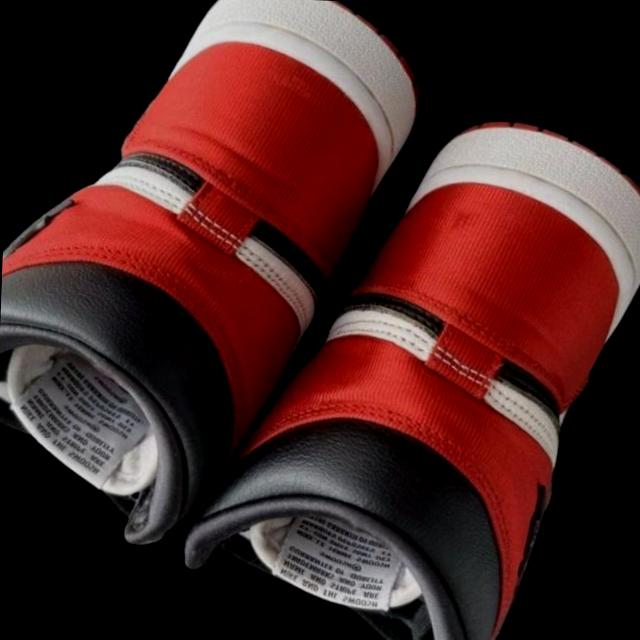nike_original_jordan: (165, 63, 640, 640), (0, 0, 475, 574)
